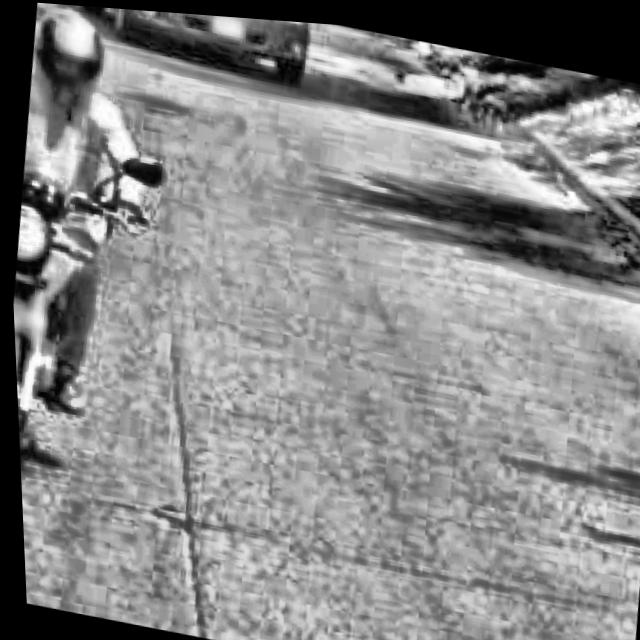motorcycle: (4, 102, 179, 521)
